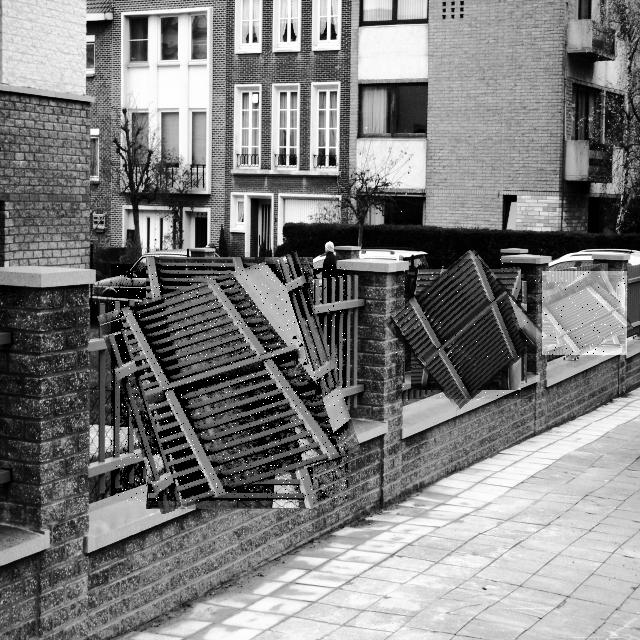fences: (111, 264, 348, 501), (396, 259, 536, 399), (542, 271, 627, 355)
